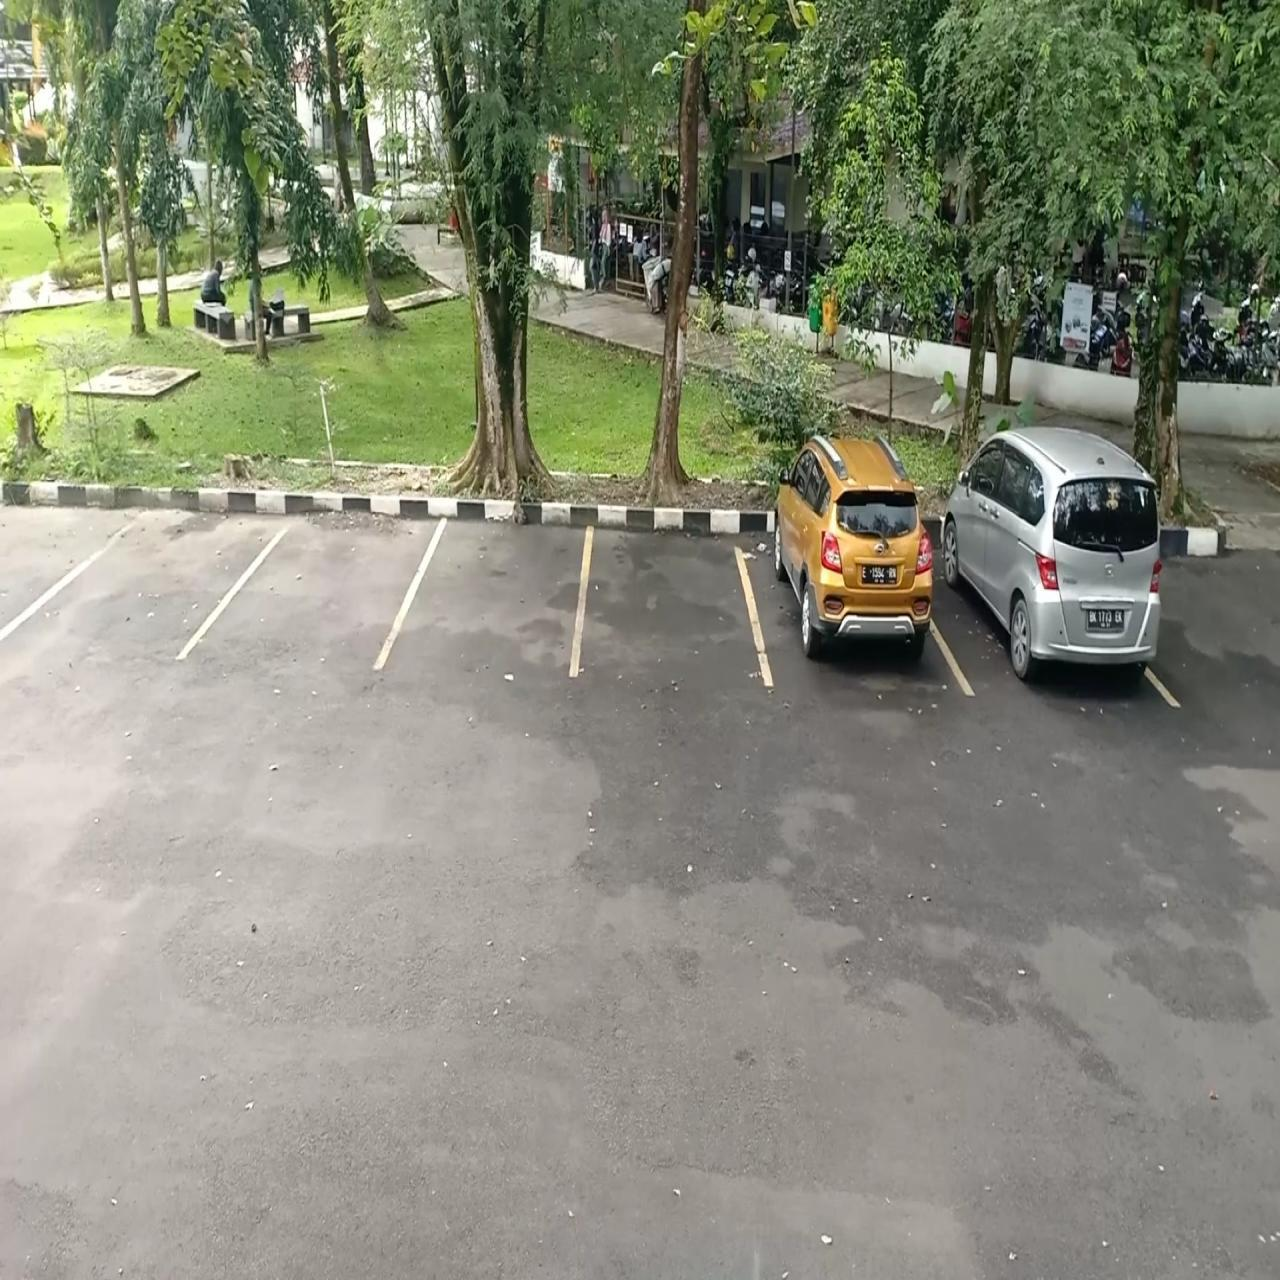empty: (230, 469, 423, 674), (402, 477, 593, 683), (57, 463, 243, 664), (574, 490, 758, 681)
occupied: (940, 434, 1171, 705), (746, 451, 943, 692)
